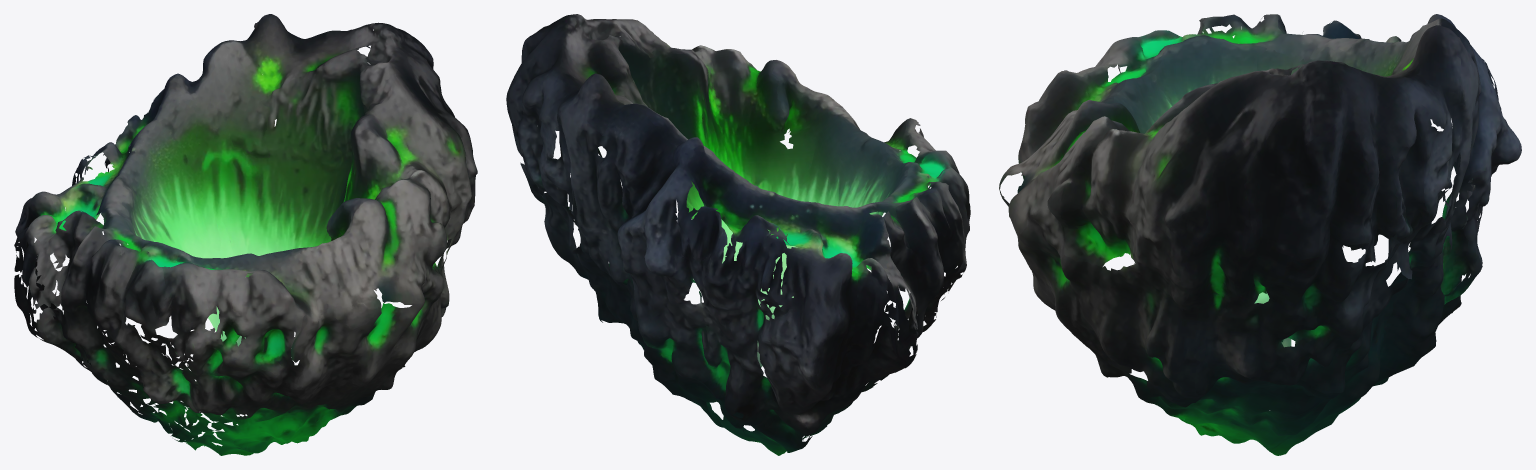
The model's file is geyser.glb.
3 views of the same model, side by side, from view 1: azimuth 30°, elevation 25°; view 2: azimuth 150°, elevation 25°; view 3: azimuth 270°, elevation 25° (orthographic). The views are drawn at different scales.
Visible parts, largest first — view 1: geometry_0.283; view 2: geometry_0.283; view 3: geometry_0.283.
Boxes of the visible parts, box(x1,y1,x2,y2) form: geometry_0.283: box(14, 14, 477, 455); geometry_0.283: box(506, 14, 970, 455); geometry_0.283: box(999, 14, 1521, 455).
Size of the model in its own units: 3.1 by 2.9 by 2.81.
Materials: 1 (1 with a texture image).
